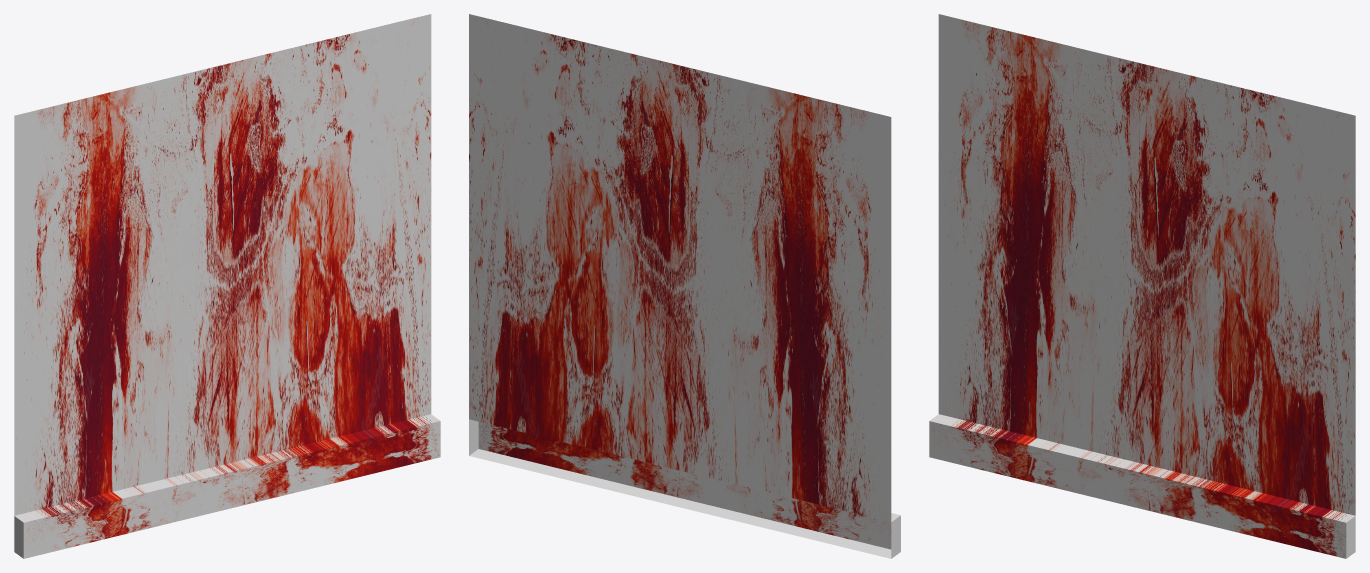
File: Marco_15.fbx
The picture shows the model from 3 angles, left to right: view 1: azimuth 30°, elevation 25°; view 2: azimuth 150°, elevation 25°; view 3: azimuth 330°, elevation 25°; orthographic projection.
Parts seen in each view (by area): view 1: Plane.018; view 2: Plane.018; view 3: Plane.018.
Boxes of the visible parts, bbox=[...] form: Plane.018: bbox=[14, 14, 440, 558]; Plane.018: bbox=[469, 14, 900, 558]; Plane.018: bbox=[929, 14, 1355, 558].
Size of the model in its own units: 600 by 600 by 23.63.
